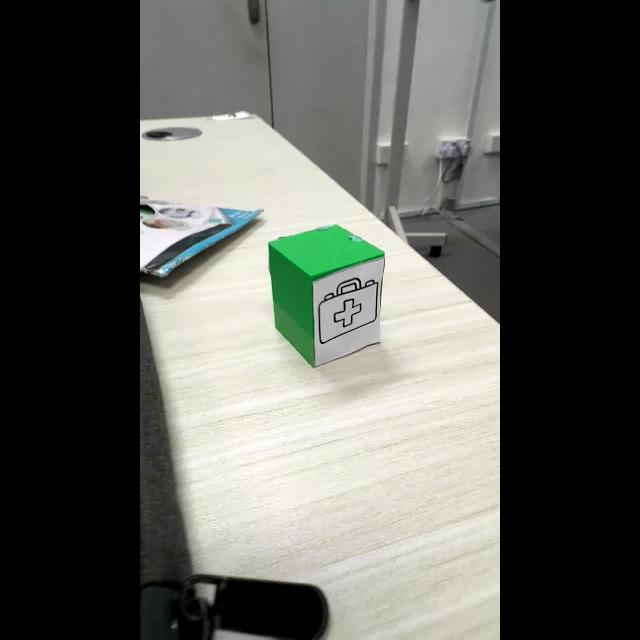Medkit: (319, 278, 379, 344)
